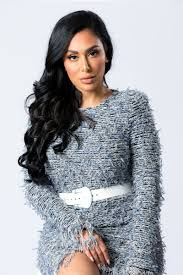middle_eastern_Female: (59, 26, 114, 95)
